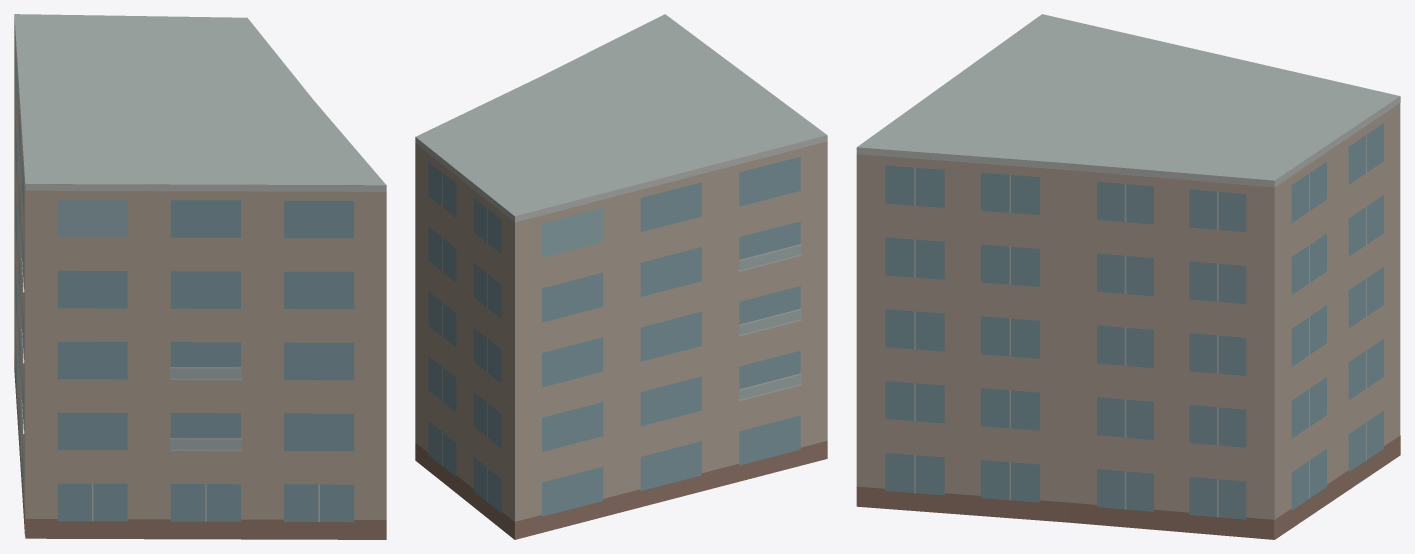
File: survey-upis-32774175.glb
The picture shows the model from 3 angles, left to right: view 1: azimuth 30°, elevation 25°; view 2: azimuth 150°, elevation 25°; view 3: azimuth 270°, elevation 25°; orthographic projection. The views are drawn at different scales.
Parts seen in each view (by area): view 1: survey-upis-32774175.tmp; view 2: survey-upis-32774175.tmp; view 3: survey-upis-32774175.tmp.
Boxes of the visible parts, box(x1,y1,x2,y2) form: survey-upis-32774175.tmp: box(14, 14, 386, 539); survey-upis-32774175.tmp: box(415, 14, 827, 539); survey-upis-32774175.tmp: box(856, 14, 1400, 539).
Size of the model in its own units: 12.74 by 12.8 by 17.57.
